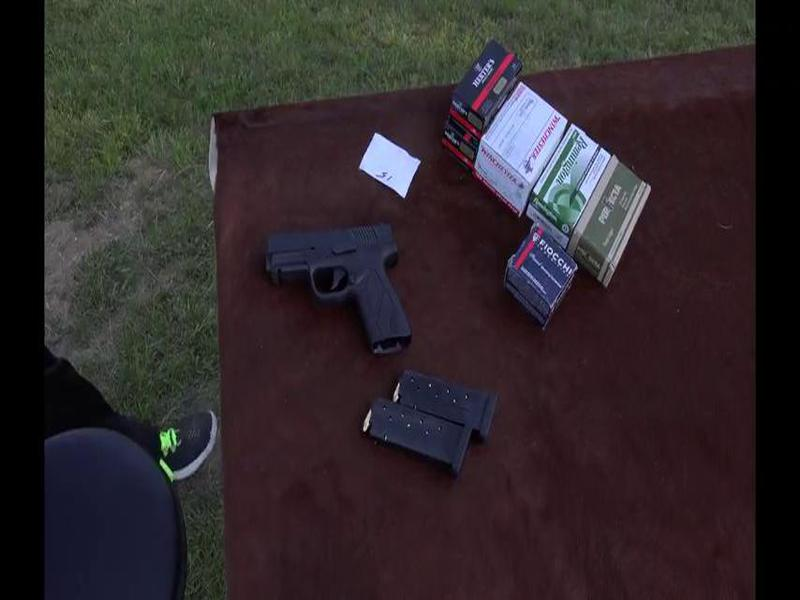Pistola: (256, 214, 435, 368)
